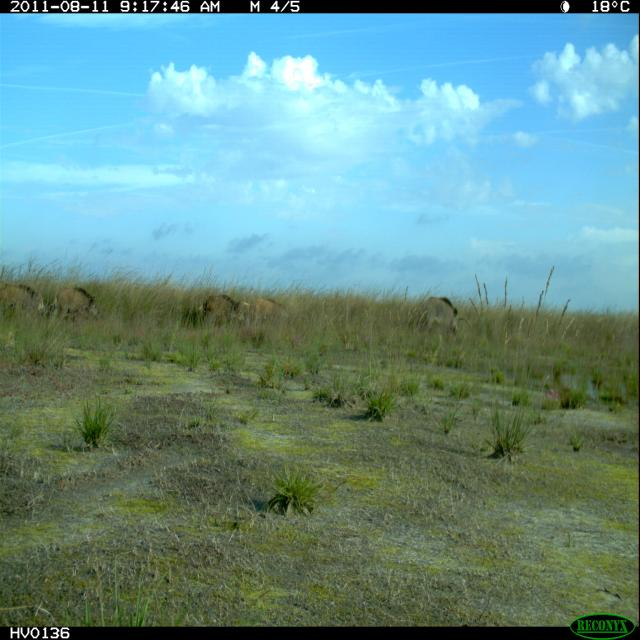boar: (35, 264, 113, 340), (191, 274, 264, 352), (404, 271, 474, 351), (227, 277, 306, 344), (0, 263, 48, 349)
